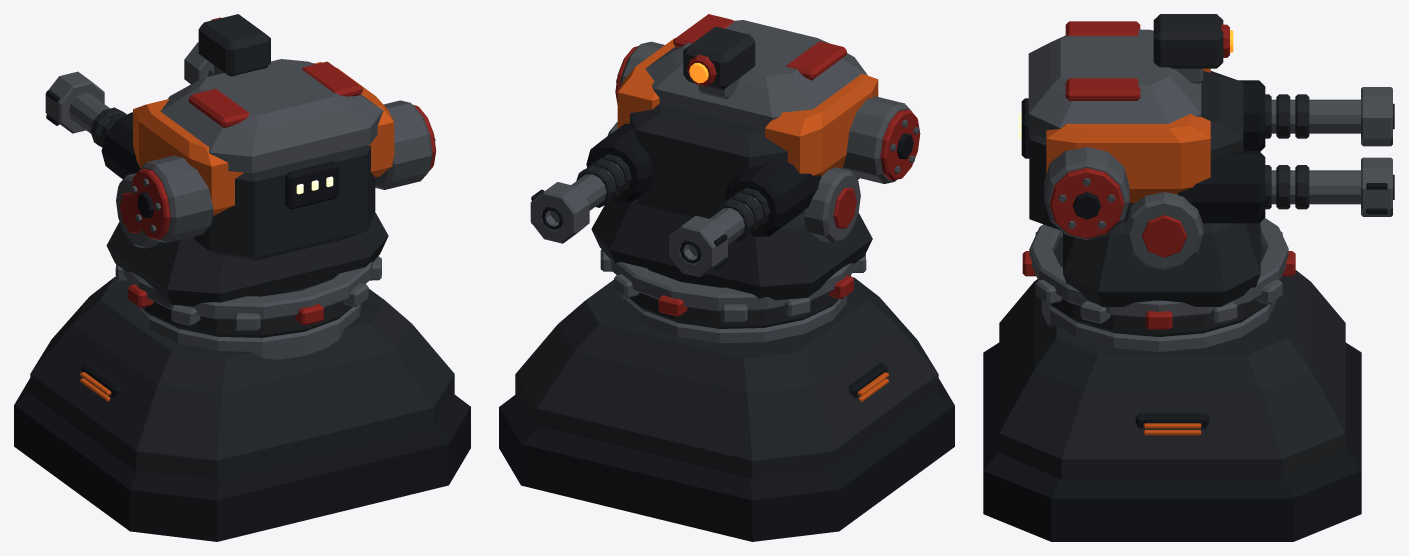
Rendered from cinder_defense_turret.glb.
3 views of the same model, side by side, from view 1: azimuth 30°, elevation 25°; view 2: azimuth 150°, elevation 25°; view 3: azimuth 270°, elevation 25° (orthographic). The views are drawn at different scales.
Parts seen in each view (by area): view 1: Foundation and chassis, Elevation assembly, Traverse assembly; view 2: Foundation and chassis, Elevation assembly, Traverse assembly; view 3: Foundation and chassis, Elevation assembly, Traverse assembly.
Boxes of the visible parts, bbox=[...] form: Foundation and chassis: bbox=[14, 277, 470, 541]; Elevation assembly: bbox=[45, 14, 436, 260]; Traverse assembly: bbox=[106, 173, 388, 337]; Foundation and chassis: bbox=[499, 277, 954, 541]; Elevation assembly: bbox=[530, 14, 920, 277]; Traverse assembly: bbox=[591, 122, 872, 328]; Foundation and chassis: bbox=[983, 270, 1361, 541]; Elevation assembly: bbox=[1019, 14, 1394, 240]; Traverse assembly: bbox=[1022, 192, 1295, 336].
Bounding box in the file's own units: 3 × 3.55 × 3.
